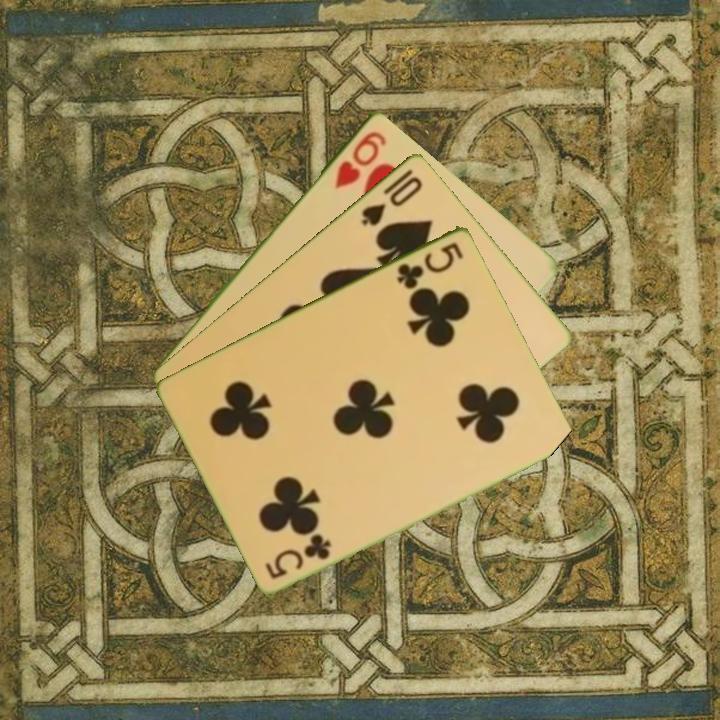10s: (357, 172, 426, 228)
5c: (392, 238, 467, 292), (262, 532, 334, 582)
6h: (331, 127, 389, 191)
